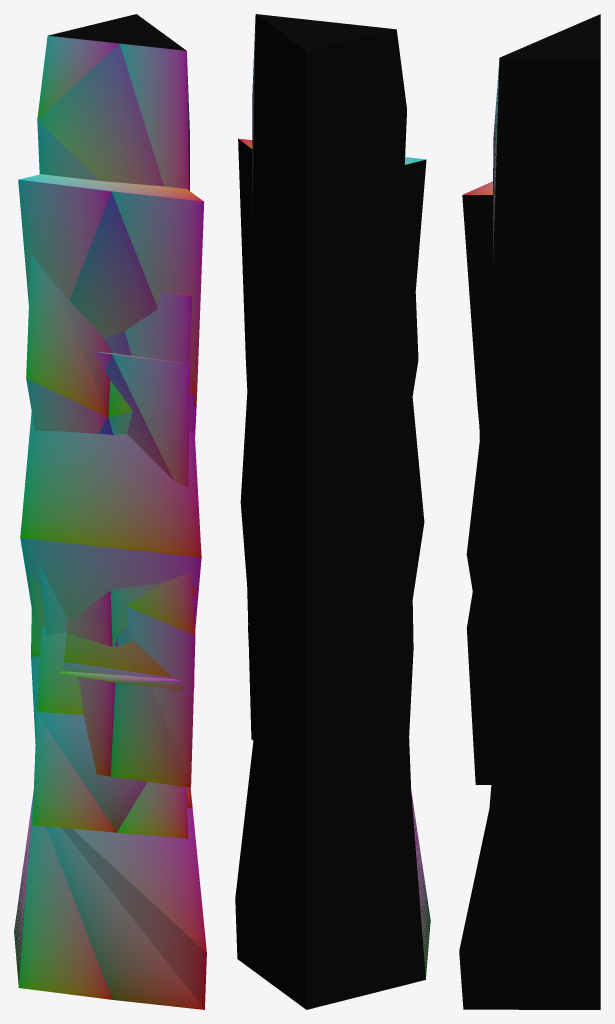
Rendered from BlocksL.fbx.
3 renders of one model, left to right at view 1: azimuth 30°, elevation 25°; view 2: azimuth 210°, elevation 25°; view 3: azimuth 270°, elevation 25°, orthographic.
Visible parts, largest first — view 1: BlocksL; view 2: BlocksL; view 3: BlocksL.
Part boxes in pixels (x1,y1,x2,y2): BlocksL: (14, 14, 206, 1009); BlocksL: (235, 14, 430, 1009); BlocksL: (459, 14, 600, 1009).
Size of the model in its own units: 0.3043 by 2.25 by 0.3027.
